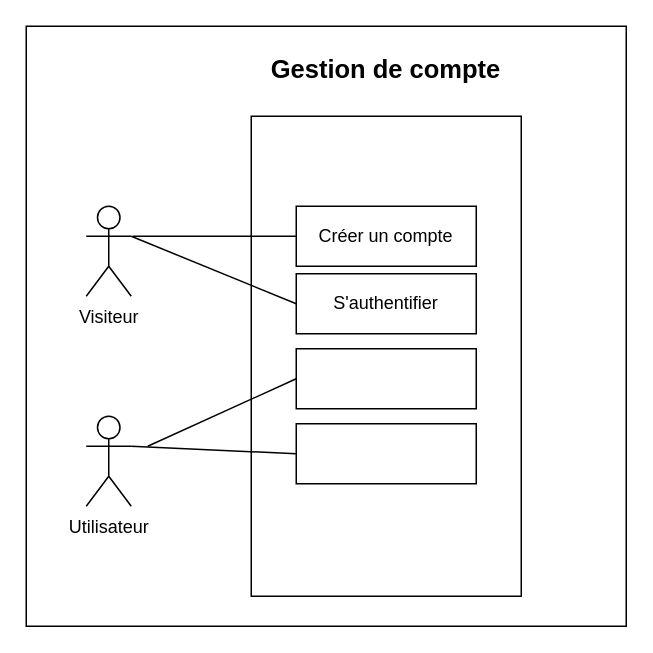
Image size: 653x653. Some labels were removed from this diagram. Here are the shapes that lost their labels. From the top down, the centre of each, then its label:
point (385, 378): Se déconnecter
point (385, 453): Réinitialiser mdp
